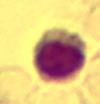lymphocyte: (28, 25, 88, 82)
